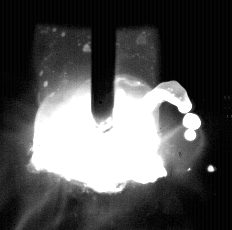arame: (93, 0, 116, 132)
poca: (32, 0, 161, 230)
